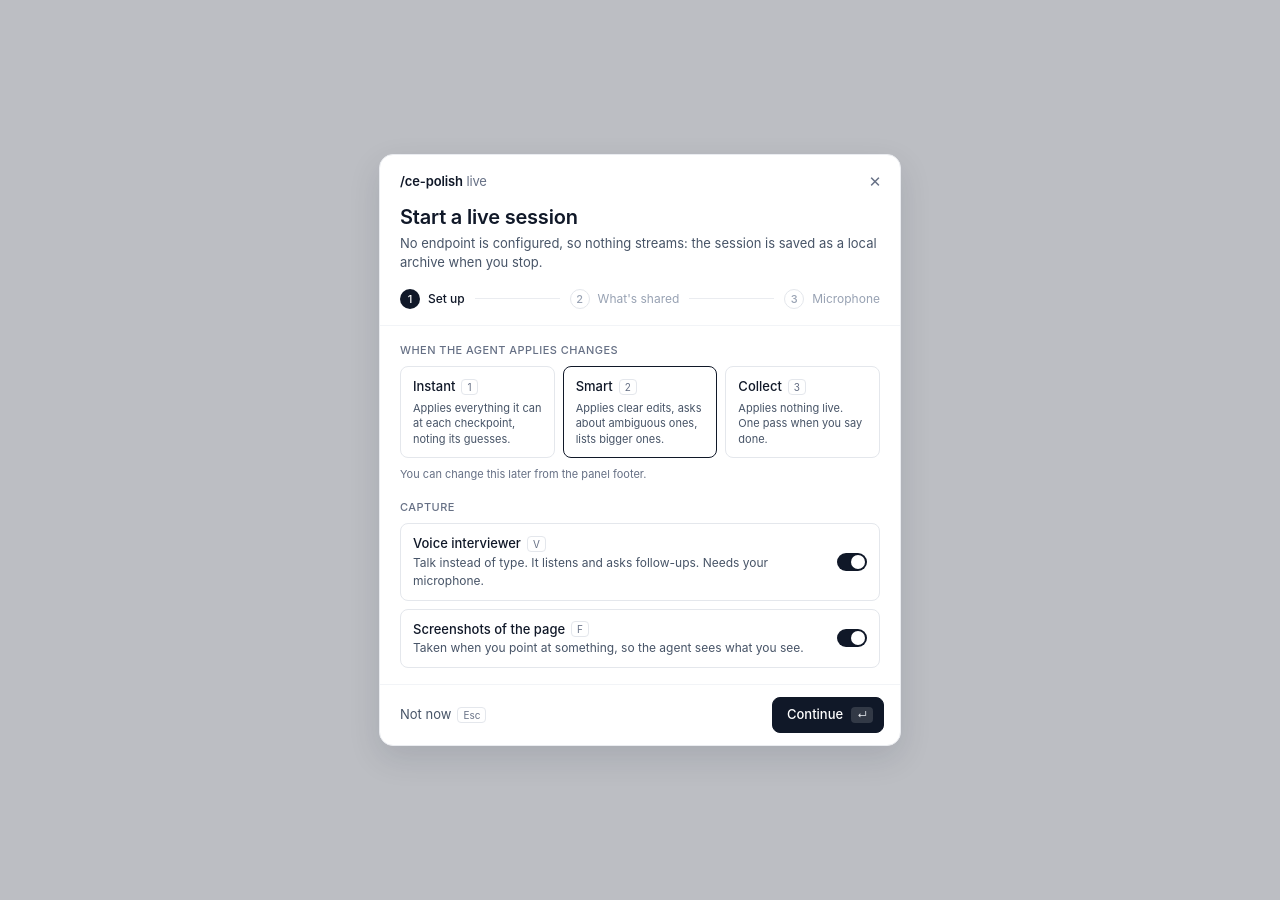
it: ConsentDialog › shows the local-archive copy and no OpenAI destination without an endpoint
Click the button "Continue ↵" at (828, 715), box x1=772 y1=697 x2=884 y2=733
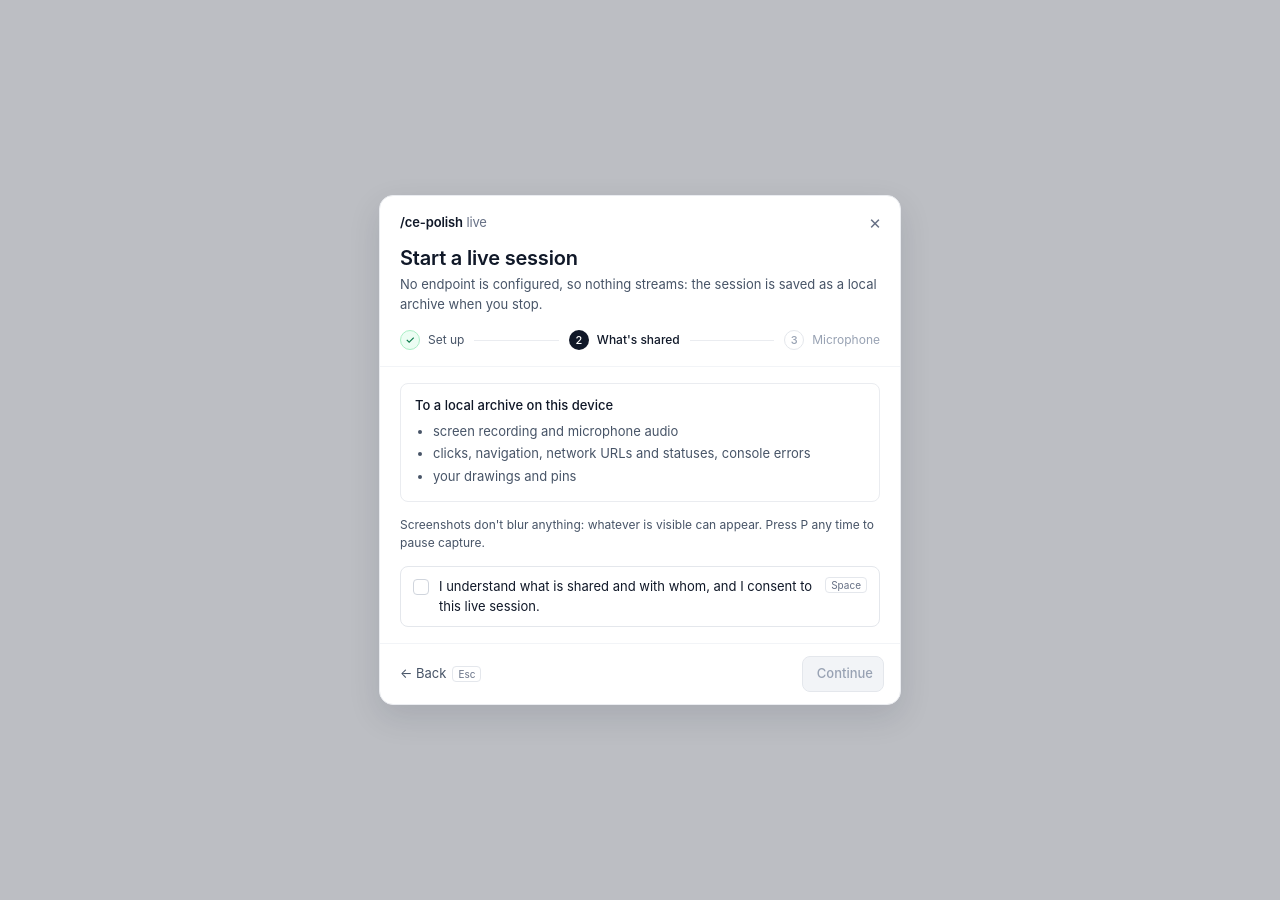
Expected: the element that starts with "a local archive on this device" is shown, x1=400 y1=383 x2=880 y2=502
